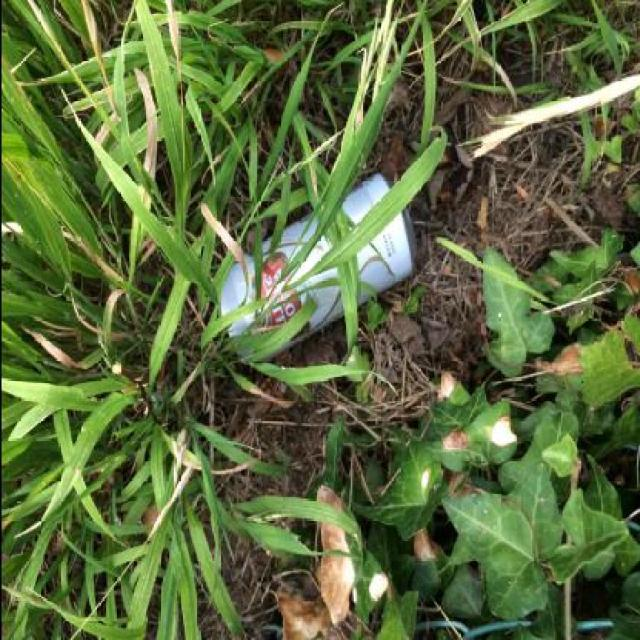metal: (212, 171, 414, 364)
